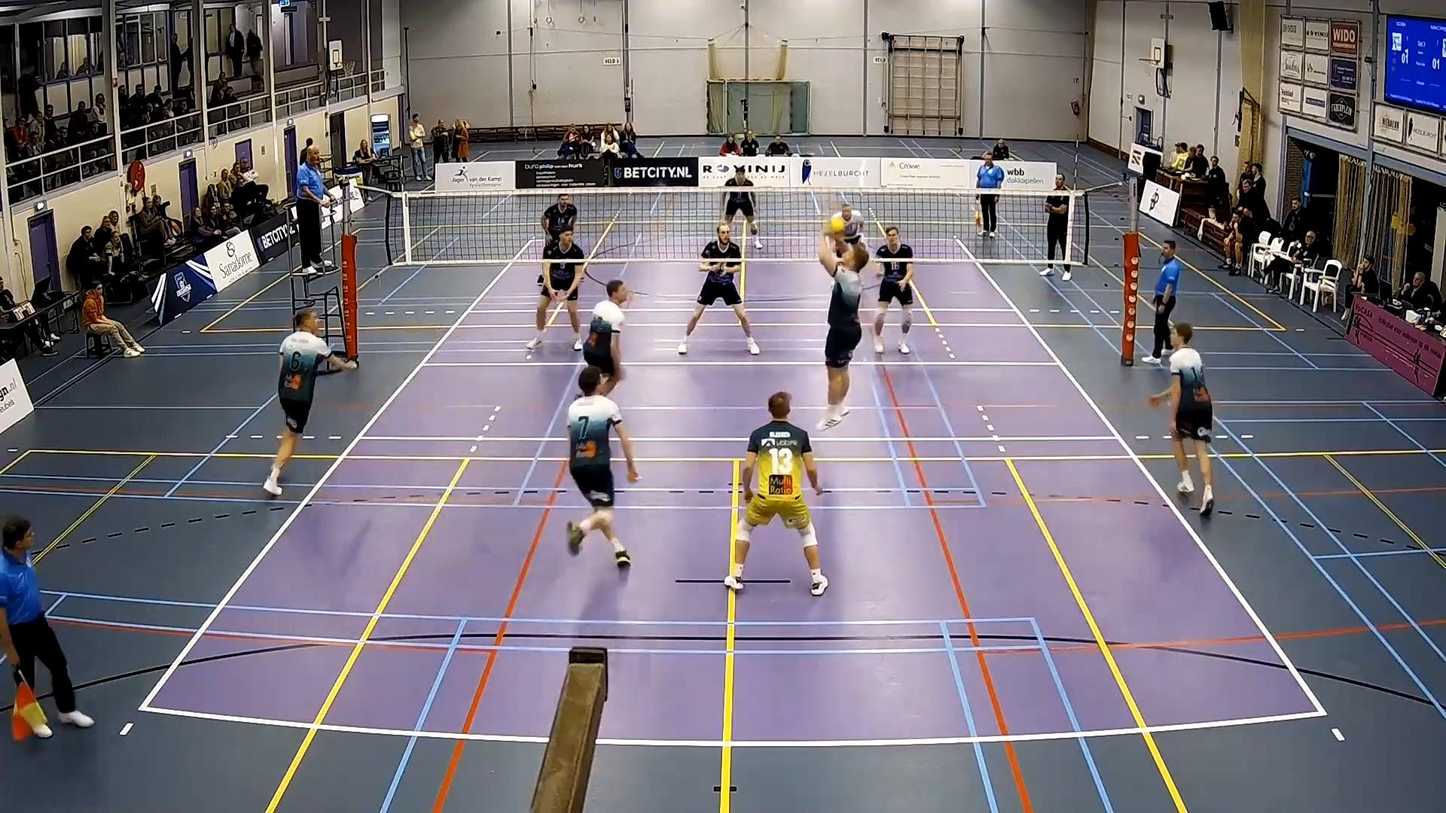Player: (725, 391, 828, 595), (263, 309, 355, 495), (567, 366, 638, 566), (1149, 323, 1213, 515), (677, 224, 759, 354), (526, 227, 584, 349), (582, 279, 627, 395), (874, 226, 914, 353), (722, 188, 762, 248), (541, 194, 578, 247), (834, 202, 866, 256)
Set: (808, 229, 876, 434)
ball: (830, 210, 845, 229)
